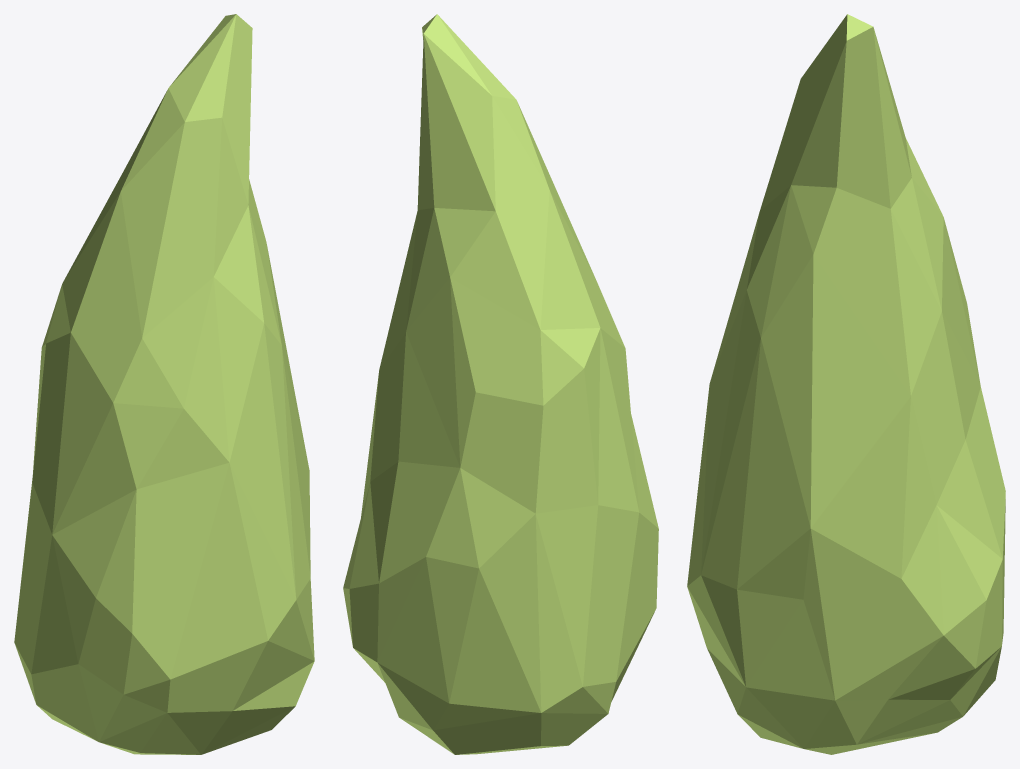
Rendered from Bush_a_m_03.fbx.
3 renders of one model, left to right at view 1: azimuth 30°, elevation 25°; view 2: azimuth 150°, elevation 25°; view 3: azimuth 270°, elevation 25°, orthographic. The views are drawn at different scales.
Visible parts, largest first — view 1: Bush_a_m_03; view 2: Bush_a_m_03; view 3: Bush_a_m_03.
Boxes of the visible parts, x1,y1,x2,y2 form: Bush_a_m_03: (14,14,314,754); Bush_a_m_03: (343,14,658,754); Bush_a_m_03: (687,14,1005,754).
Size of the model in its own units: 117 by 318 by 121.
